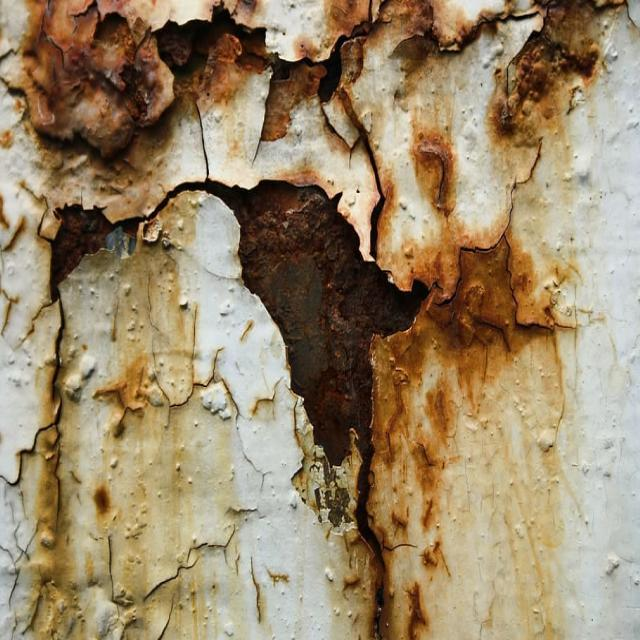corrosion: (2, 1, 607, 640)
